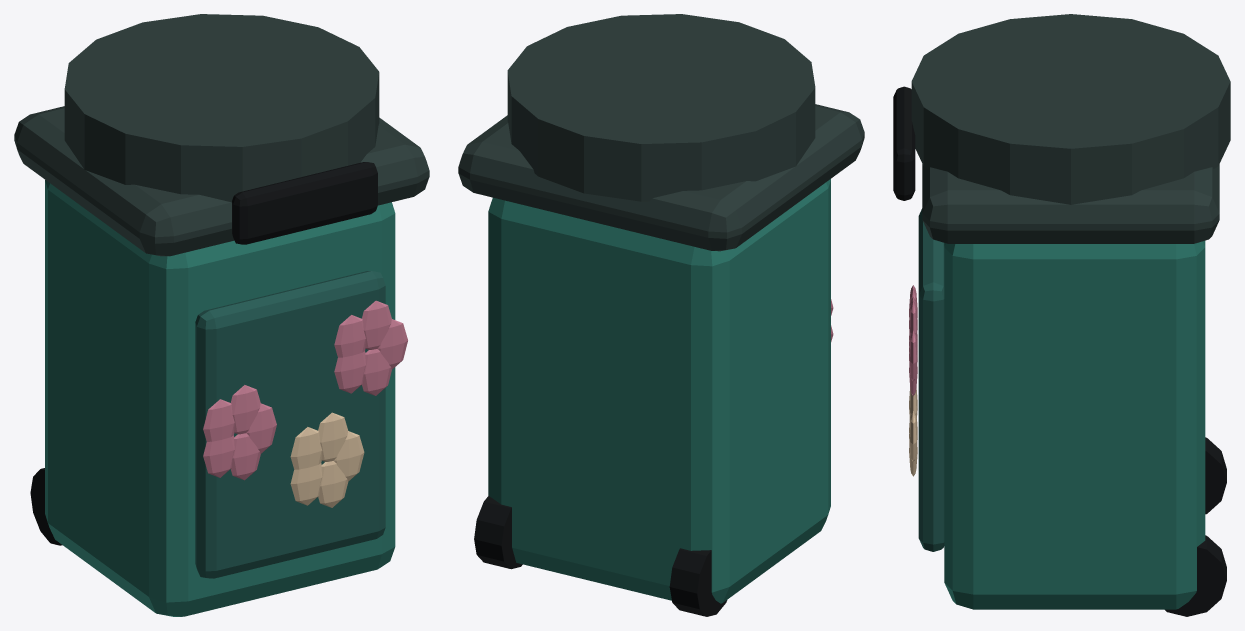
File: harpurhey-coral-bin.glb
3 renders of one model, left to right at view 1: azimuth 30°, elevation 25°; view 2: azimuth 150°, elevation 25°; view 3: azimuth 270°, elevation 25°, orthographic. The views are drawn at different scales.
Visible parts, largest first — view 1: Coral_Bin_Body, Coral_Bin_Domed_Top, Coral_Bin_Front_Panel, Coral_Bin_Lid, Coral_Bin_Slot, Coral_Bin_Graffiti_0_1, Coral_Bin_Graffiti_2_1, Coral_Bin_Graffiti_1_1, Coral_Bin_Graffiti_1_2, Coral_Bin_Graffiti_2_2, Coral_Bin_Graffiti_0_2, Coral_Bin_Graffiti_0_4 (+9 smaller); view 2: Coral_Bin_Body, Coral_Bin_Domed_Top, Coral_Bin_Lid, Coral_Bin_Wheel_-0.32, Coral_Bin_Wheel_0.32; view 3: Coral_Bin_Body, Coral_Bin_Domed_Top, Coral_Bin_Lid, Coral_Bin_Front_Panel, Coral_Bin_Slot, Coral_Bin_Wheel_0.32, Coral_Bin_Wheel_-0.32.
Part boxes in pixels (bbox=[...]): Coral_Bin_Body: bbox=[45, 180, 395, 616]; Coral_Bin_Domed_Top: bbox=[64, 14, 379, 202]; Coral_Bin_Front_Panel: bbox=[195, 271, 385, 578]; Coral_Bin_Lid: bbox=[14, 106, 429, 256]; Coral_Bin_Slot: bbox=[232, 162, 377, 244]; Coral_Bin_Graffiti_0_1: bbox=[230, 385, 260, 434]; Coral_Bin_Graffiti_2_1: bbox=[362, 300, 391, 349]; Coral_Bin_Graffiti_1_1: bbox=[318, 412, 348, 461]; Coral_Bin_Graffiti_1_2: bbox=[290, 427, 322, 469]; Coral_Bin_Graffiti_2_2: bbox=[334, 315, 365, 357]; Coral_Bin_Graffiti_0_2: bbox=[203, 399, 234, 441]; Coral_Bin_Graffiti_0_4: bbox=[230, 433, 260, 480]; Coral_Bin_Body: bbox=[488, 179, 830, 603]; Coral_Bin_Domed_Top: bbox=[507, 14, 815, 201]; Coral_Bin_Lid: bbox=[458, 104, 864, 251]; Coral_Bin_Wheel_-0.32: bbox=[669, 548, 727, 616]; Coral_Bin_Wheel_0.32: bbox=[474, 496, 522, 569]; Coral_Bin_Body: bbox=[944, 240, 1205, 609]; Coral_Bin_Domed_Top: bbox=[911, 14, 1230, 204]; Coral_Bin_Lid: bbox=[922, 164, 1219, 243]; Coral_Bin_Front_Panel: bbox=[918, 208, 944, 551]; Coral_Bin_Slot: bbox=[893, 86, 915, 200]; Coral_Bin_Wheel_0.32: bbox=[1165, 535, 1226, 616]; Coral_Bin_Wheel_-0.32: bbox=[1205, 437, 1226, 514].
Bounding box in the file's own units: 0.92 × 1.46 × 0.93.
